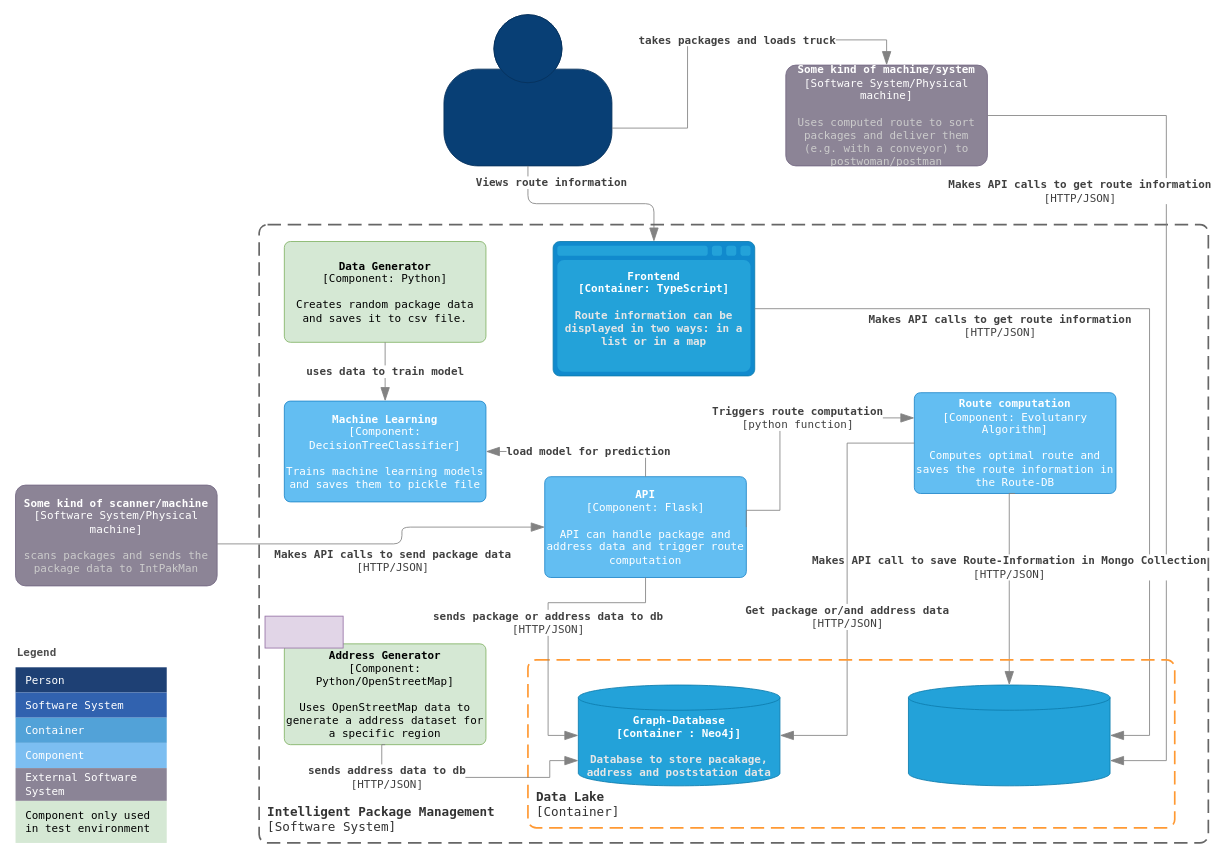
The diagram is 1226 pixels wide and 858 high, and some of its shapes have lost their labels. The centre of each missing label's shape, as x and y in pixels:
"Postwoman/Postman [Person] Uses the IntPakMan Frontend" goes at [527,90].
"Quelle: GeoJSON-Datei" goes at [303,631].
"Route-Databse [Container : MongoDB] Databse to store computed route information" goes at [1009,735].
